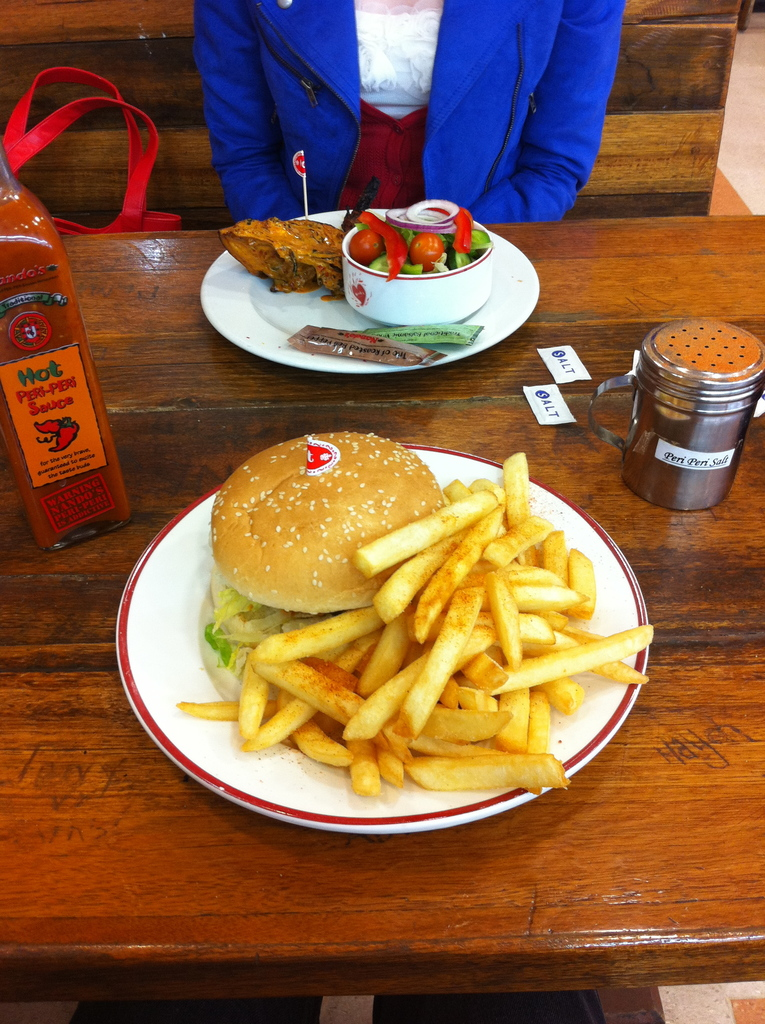French fries: (176, 449, 660, 801)
